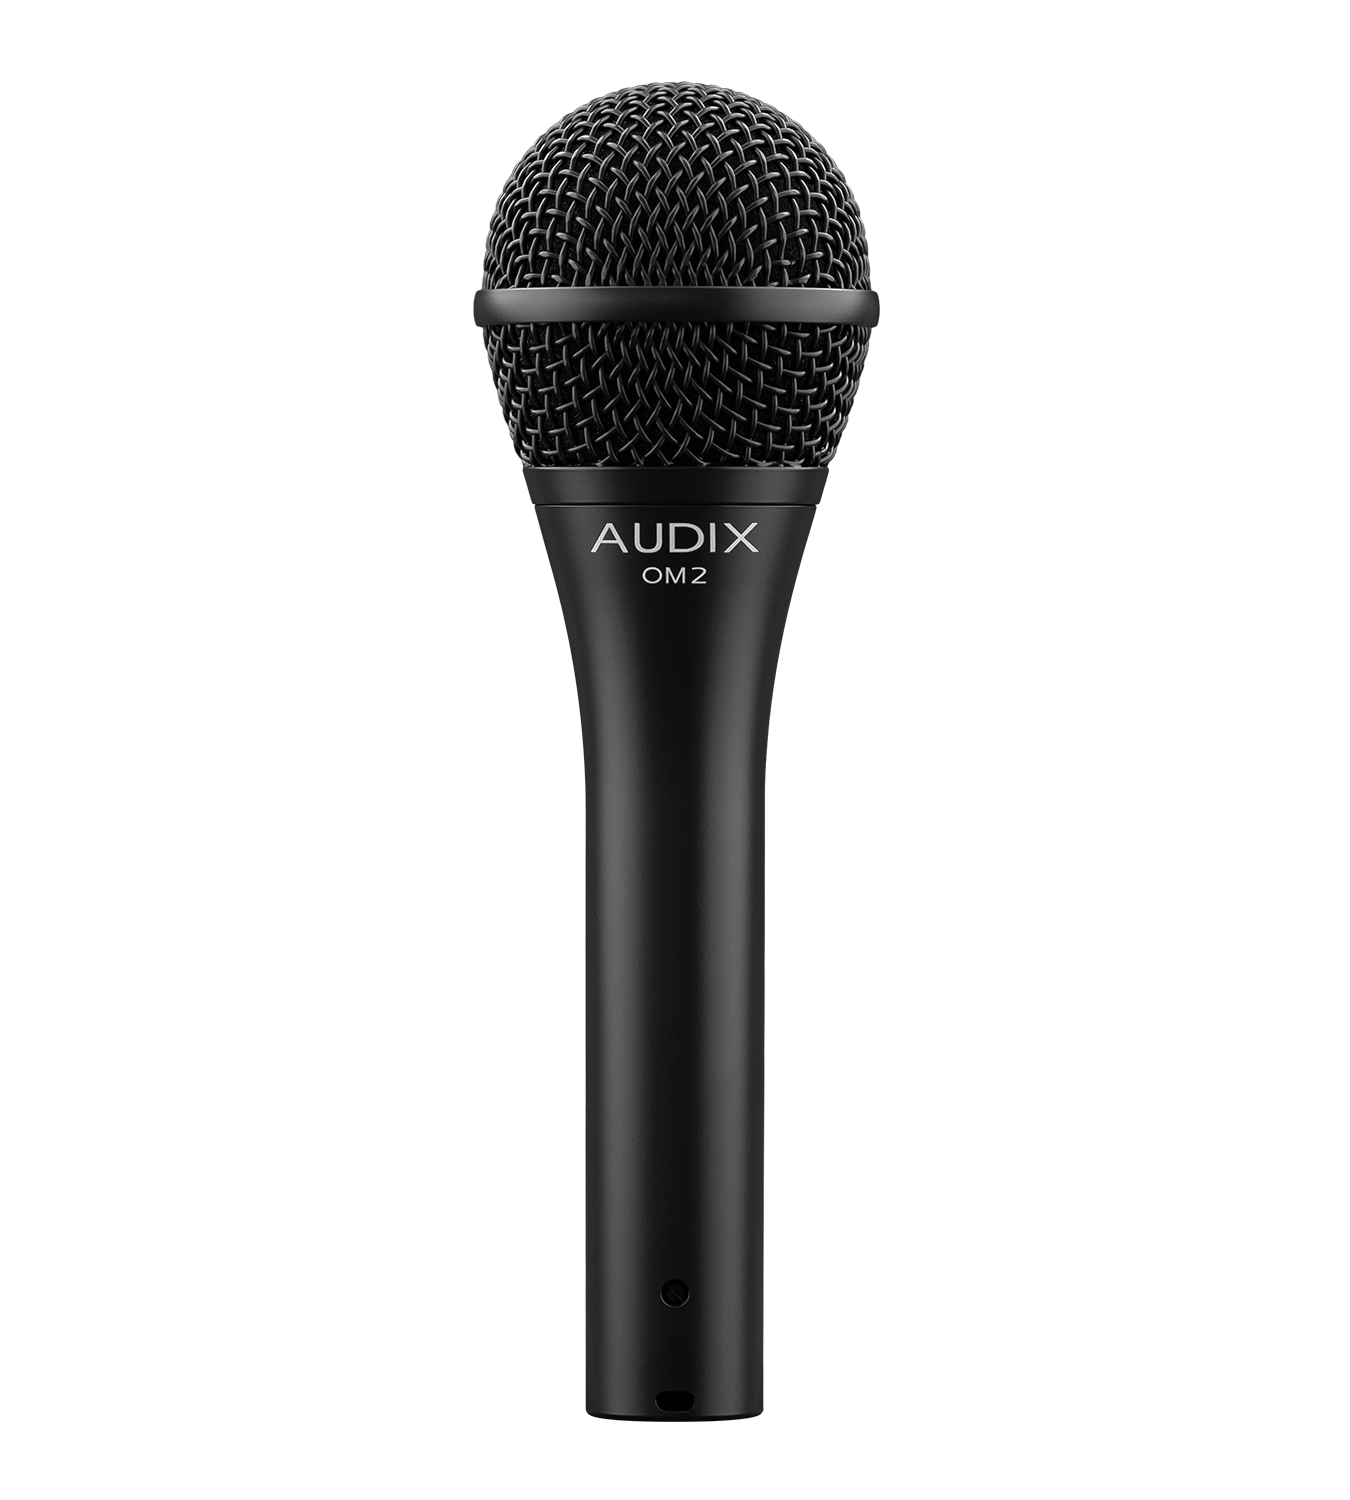microphone: (470, 77, 886, 1427)
